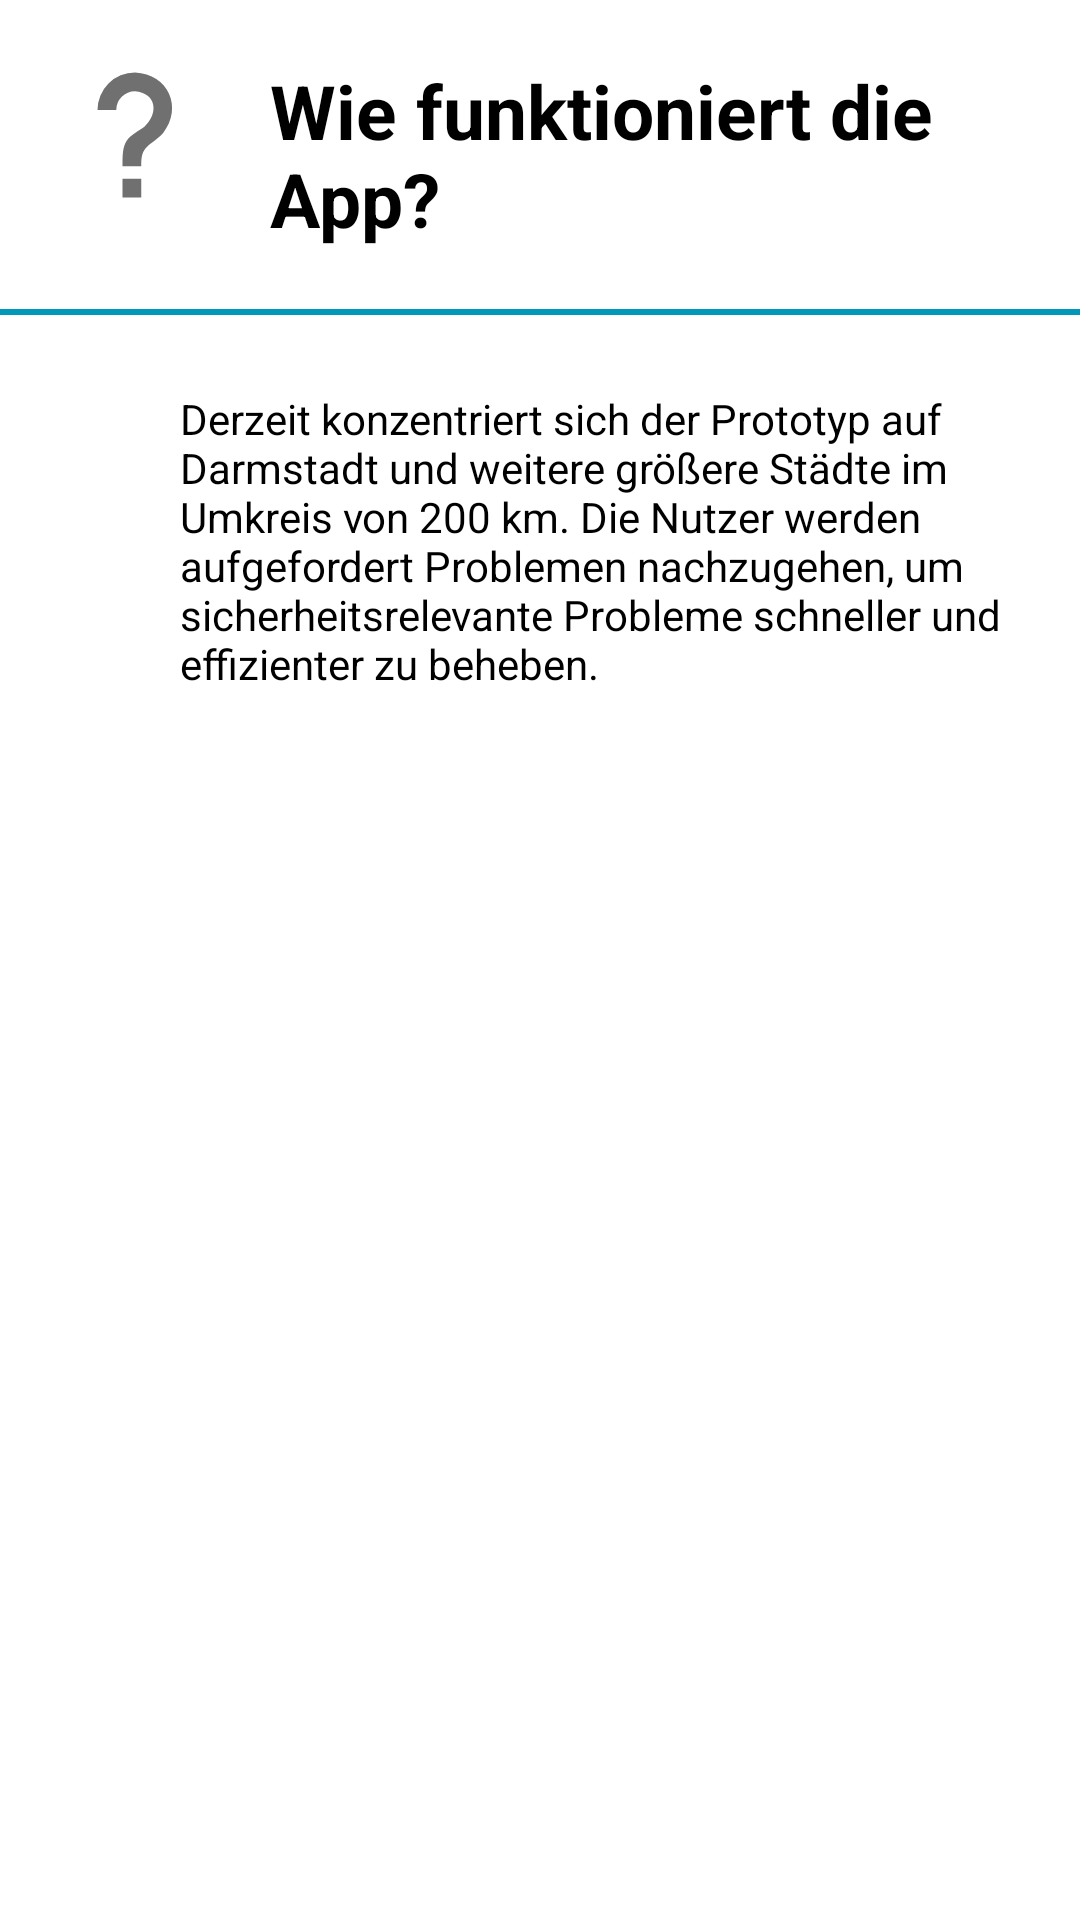

Named icons in this screenshot (1080*1920) and their centers, (x=x, y=y):
help: (x=134, y=135)
